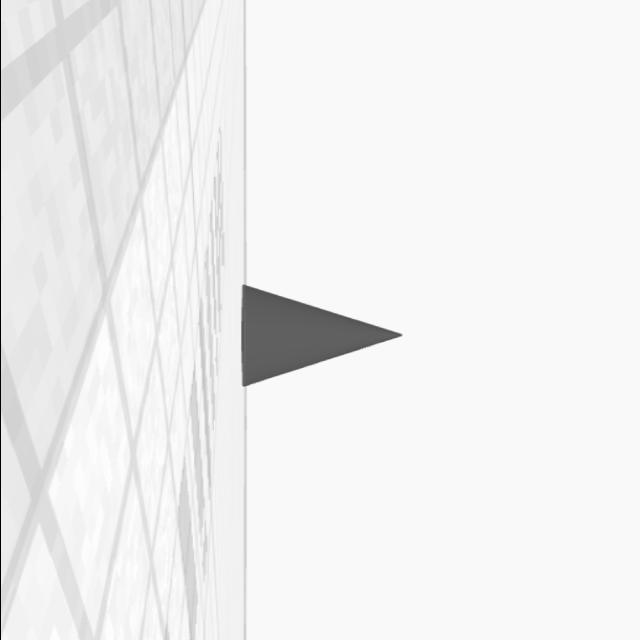cone: (233, 282, 408, 389)
